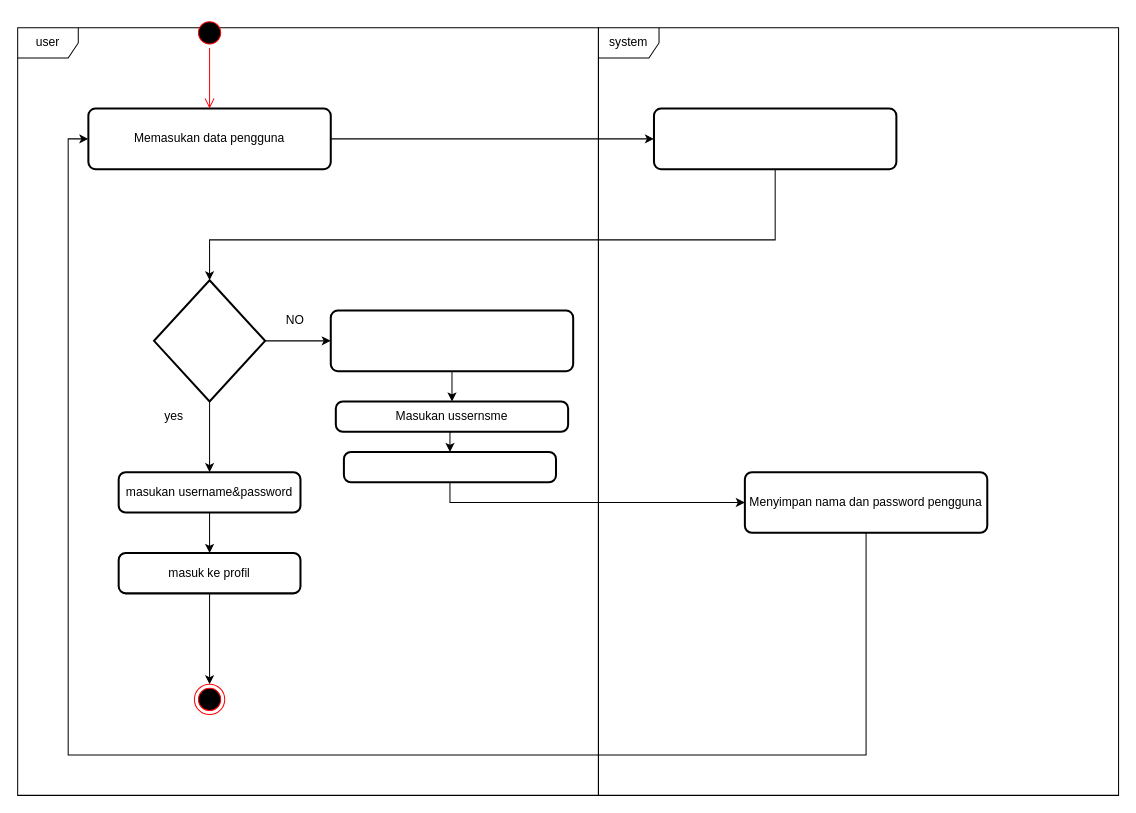
Some shapes in this 1136 by 813 pixel diagram are drawn without their labels. Here are the shapes that lost their labels. From the top down, the centre of each, then its label:
(774,138): Validasi data user
(209,340): jika sudah ada
(451,340): DAFTAR
(449,466): Masukan password
